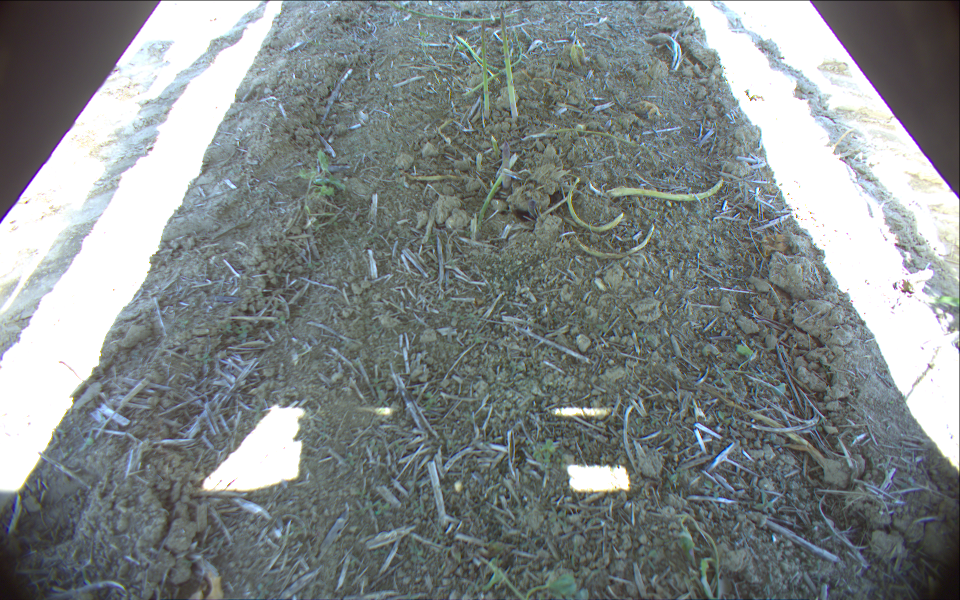aspa: (495, 6, 525, 123), (477, 19, 495, 121), (494, 138, 513, 192)
